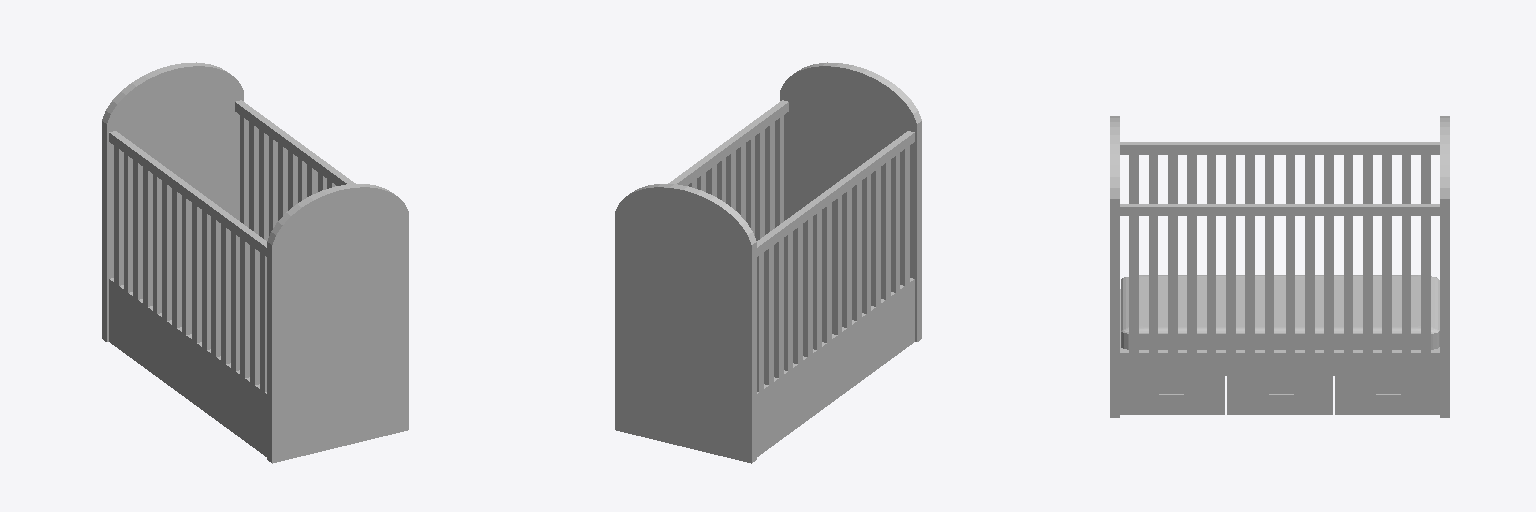
File: crib.obj
The picture shows the model from 3 angles: view 1: azimuth 30°, elevation 25°; view 2: azimuth 150°, elevation 25°; view 3: azimuth 270°, elevation 25°; orthographic projection.
Parts seen in each view (by area): view 1: Frame; view 2: Frame; view 3: Frame, Mattress, Drawers.
Boxes of the visible parts, box(x1,y1,x2,y2) form: Frame: box(102, 62, 408, 463); Frame: box(615, 62, 921, 463); Frame: box(1110, 116, 1449, 417); Mattress: box(1121, 275, 1439, 349); Drawers: box(1120, 376, 1439, 414).
Size of the model in its own units: 3.02 by 5.37 by 6.46.